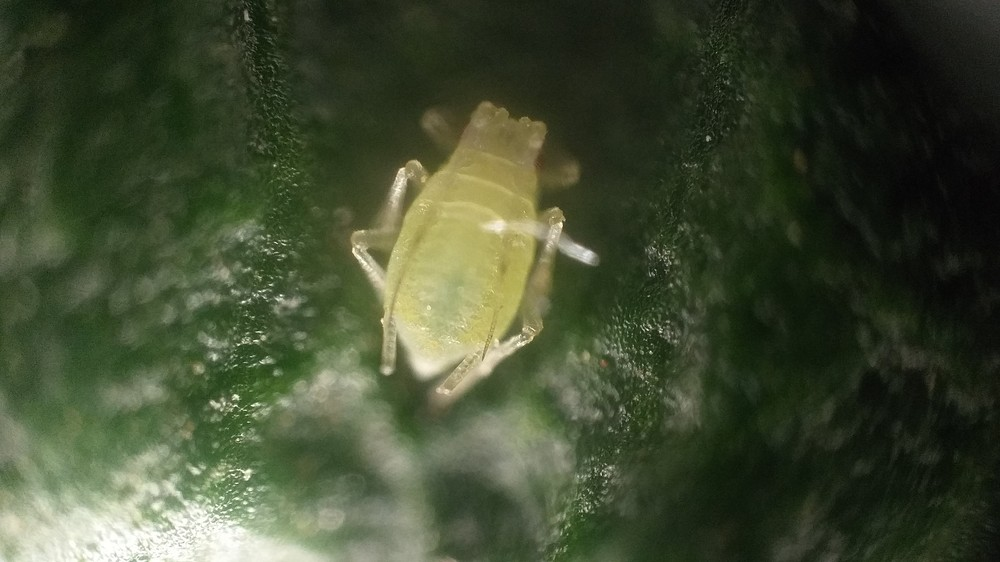Pulgon: (336, 80, 627, 397)
